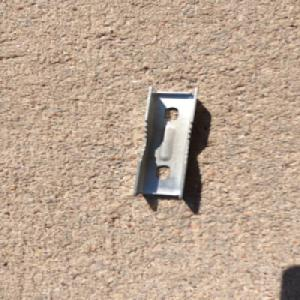ClampPart: (129, 84, 200, 200)
